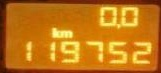-: (115, 23, 120, 28)
0: (98, 5, 117, 25), (120, 5, 138, 26)
1: (47, 40, 56, 61), (24, 40, 31, 61)
2: (130, 40, 152, 63)
5: (107, 40, 126, 63)
7: (84, 39, 103, 62)
9: (58, 39, 79, 62)
X: (49, 26, 59, 37), (59, 29, 72, 37)
